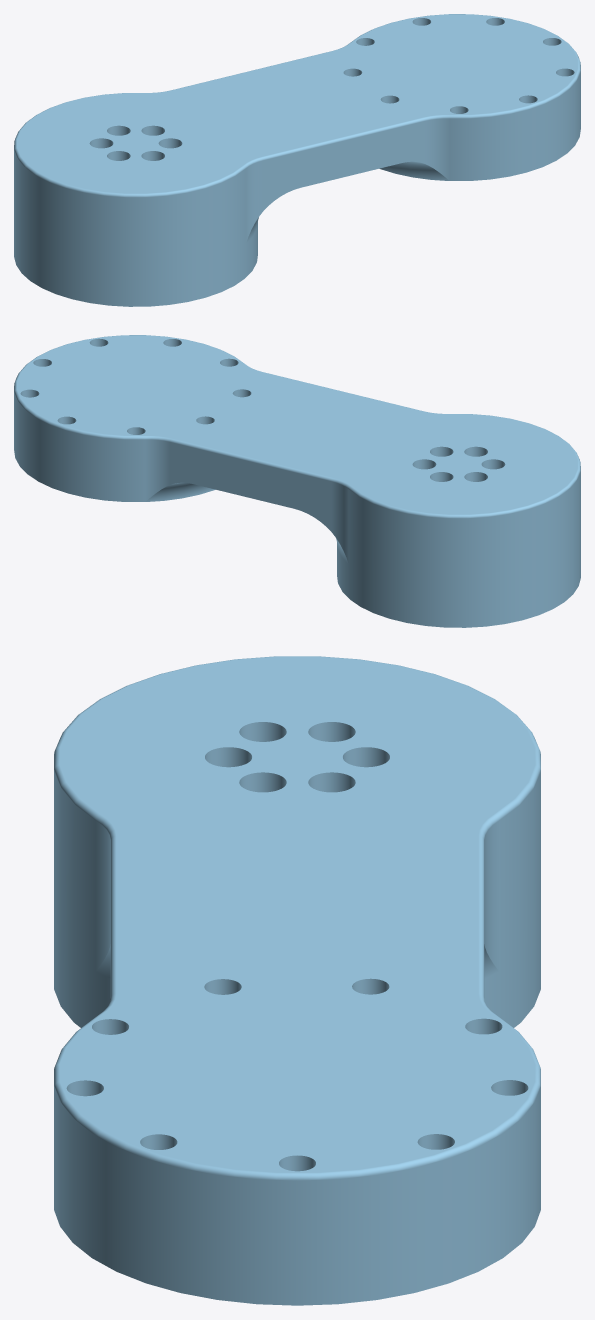
File: JointArm.dae
3 renders of one model, top to bottom at view 1: azimuth 30°, elevation 25°; view 2: azimuth 150°, elevation 25°; view 3: azimuth 270°, elevation 25°, orthographic. The views are drawn at different scales.
Parts seen in each view (by area): view 1: ID2; view 2: ID2; view 3: ID2.
Part boxes in pixels (box(x1,y1,x2,y2)): ID2: box(14, 14, 580, 306); ID2: box(14, 335, 580, 627); ID2: box(54, 656, 540, 1305).
Size of the model in its own units: 0.2148 by 0.0848 by 0.043.
